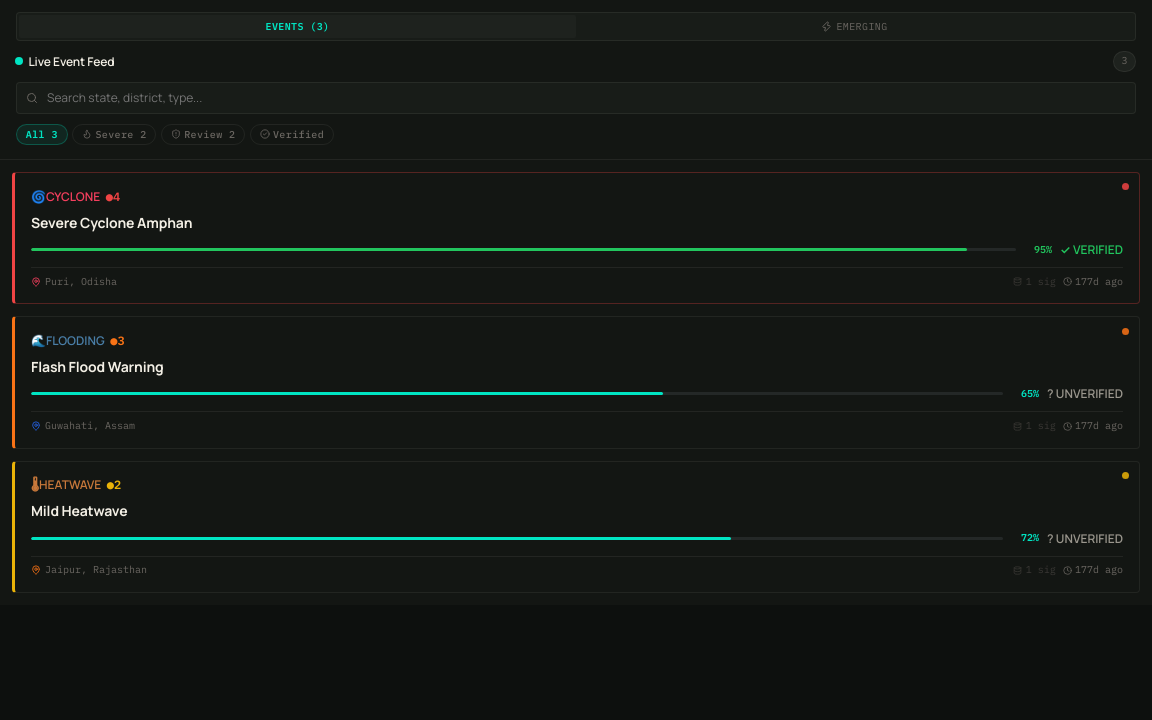
Test: EventFeed Component › filters events by quick filter "verified"
The width and height of the screenshot is (1152, 720).
Click the button "Verified" at (292, 134), box [250,124,334,145]
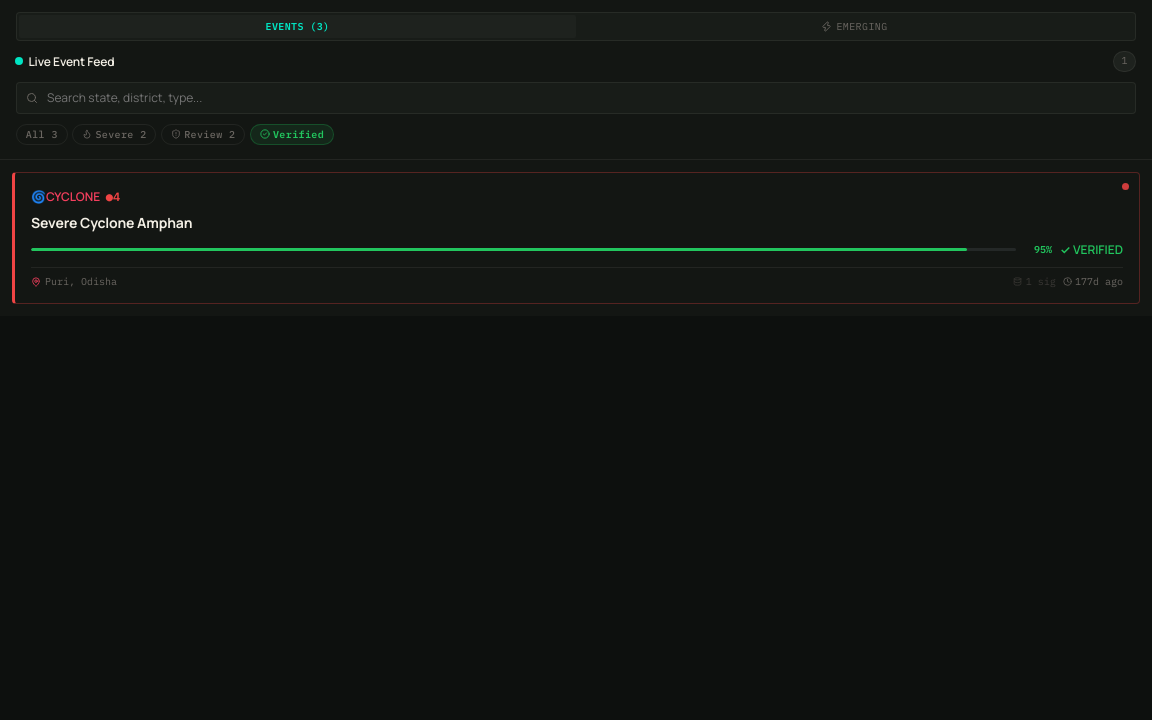
Expected: the text "Severe Cyclone Amphan" is shown, [31,213,192,232]
Result: the button "Flash Flood Warning" is gone
Result: the button "Mild Heatwave" is gone
